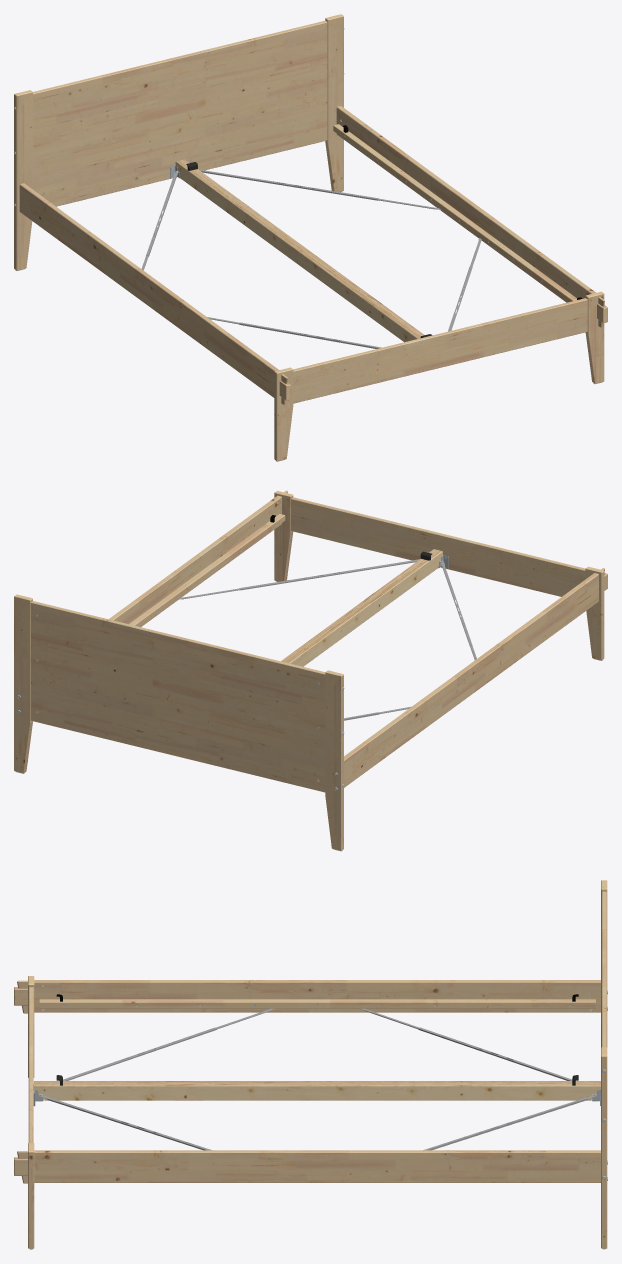
3 renders of one model, top to bottom at view 1: azimuth 30°, elevation 25°; view 2: azimuth 150°, elevation 25°; view 3: azimuth 270°, elevation 25°, orthographic. The views are drawn at different scales.
Visible parts, largest first — view 1: ASY_ART_60621520_S01_NV01; view 2: ASY_ART_60621520_S01_NV01; view 3: ASY_ART_60621520_S01_NV01.
Part boxes in pixels (x1,y1,x2,y2): ASY_ART_60621520_S01_NV01: (14, 14, 607, 461); ASY_ART_60621520_S01_NV01: (14, 490, 607, 851); ASY_ART_60621520_S01_NV01: (14, 880, 607, 1249).
Bounding box in the file's own units: 1.48 × 0.7585 × 2.1.
Materials: 1 (1 with a texture image).
